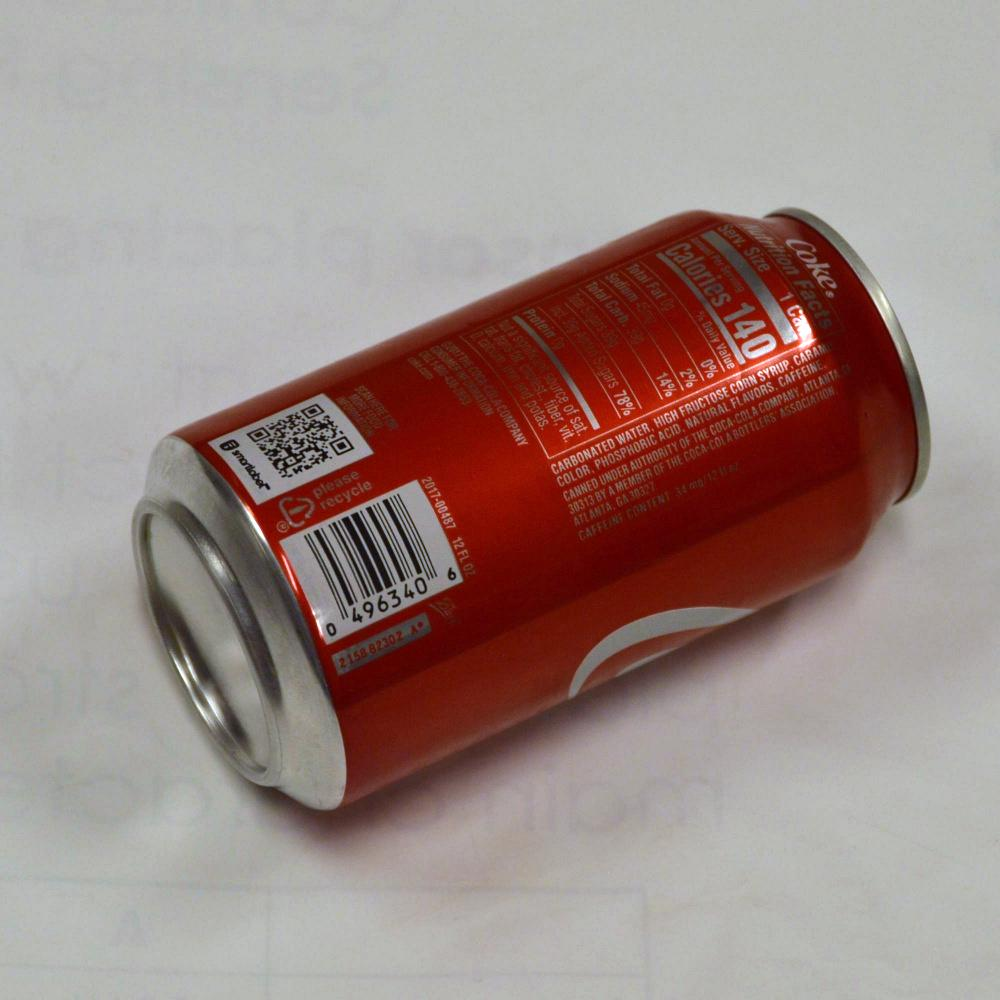Metal: (85, 102, 900, 863)
